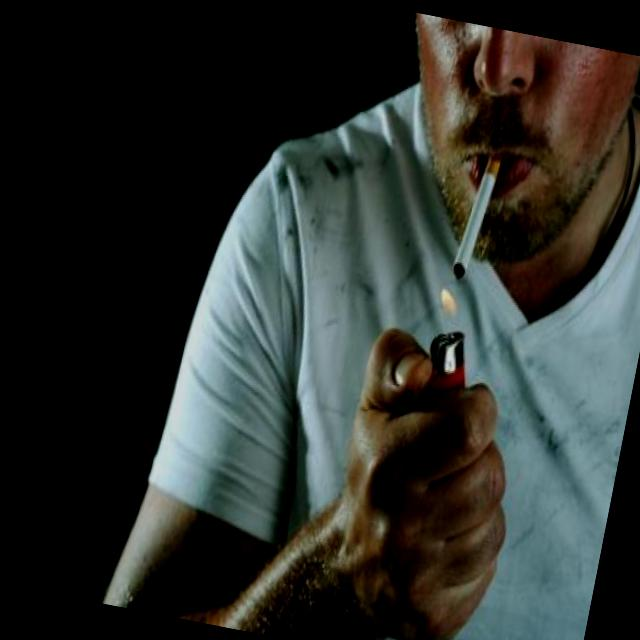smoke: (449, 152, 505, 288)
